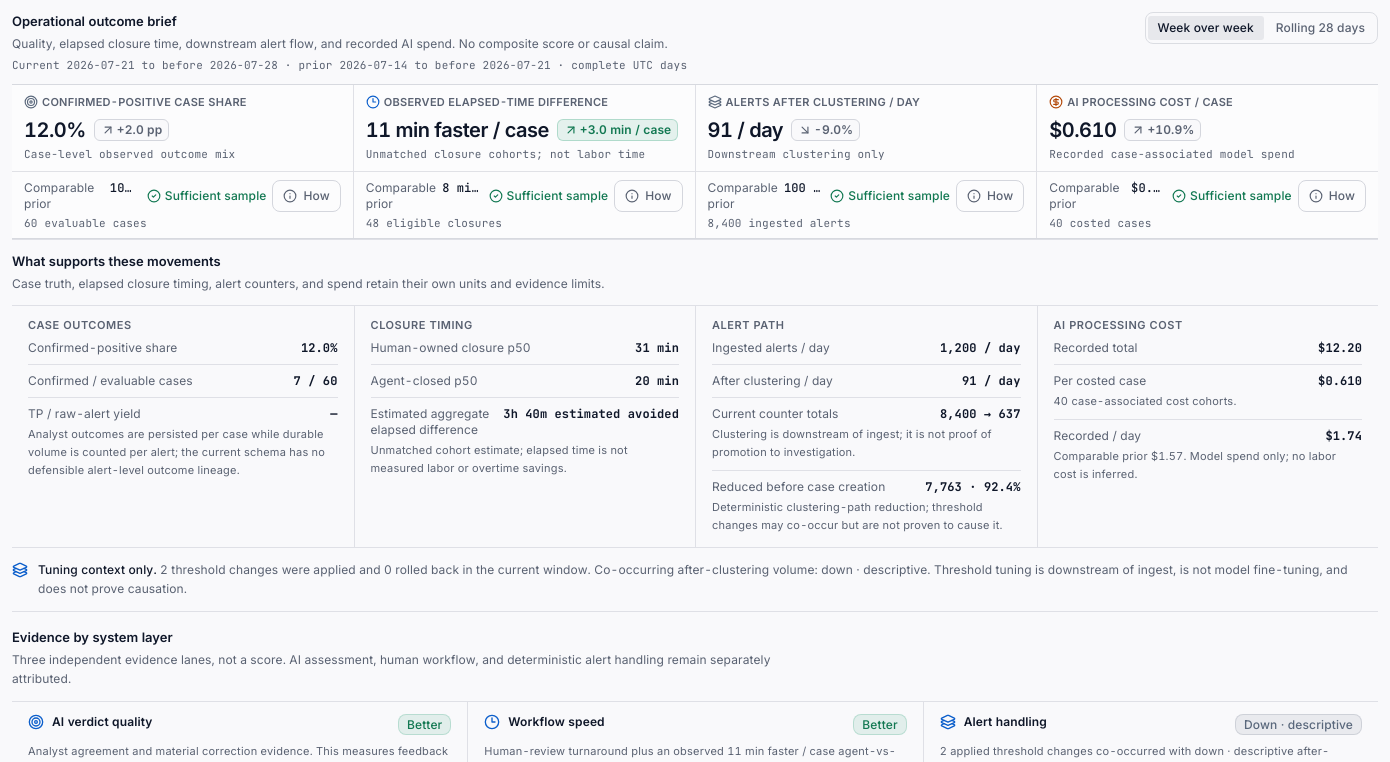
Test: AgentOperationalOutcomes › renders exact backend outcome fields and the true period-comparison contract
expect the heading "Operational outcome brief" is shown: met, box [12, 13, 177, 29]
expect the element named "Outcome trend period" is shown: met, box [1145, 12, 1378, 44]
What coordinates should you click on to do the following:
click the radio button labelled "Rolling 28 days"
I would click on:
 (1320, 28)
Its box is [1266, 16, 1375, 40].
(page scrolled)
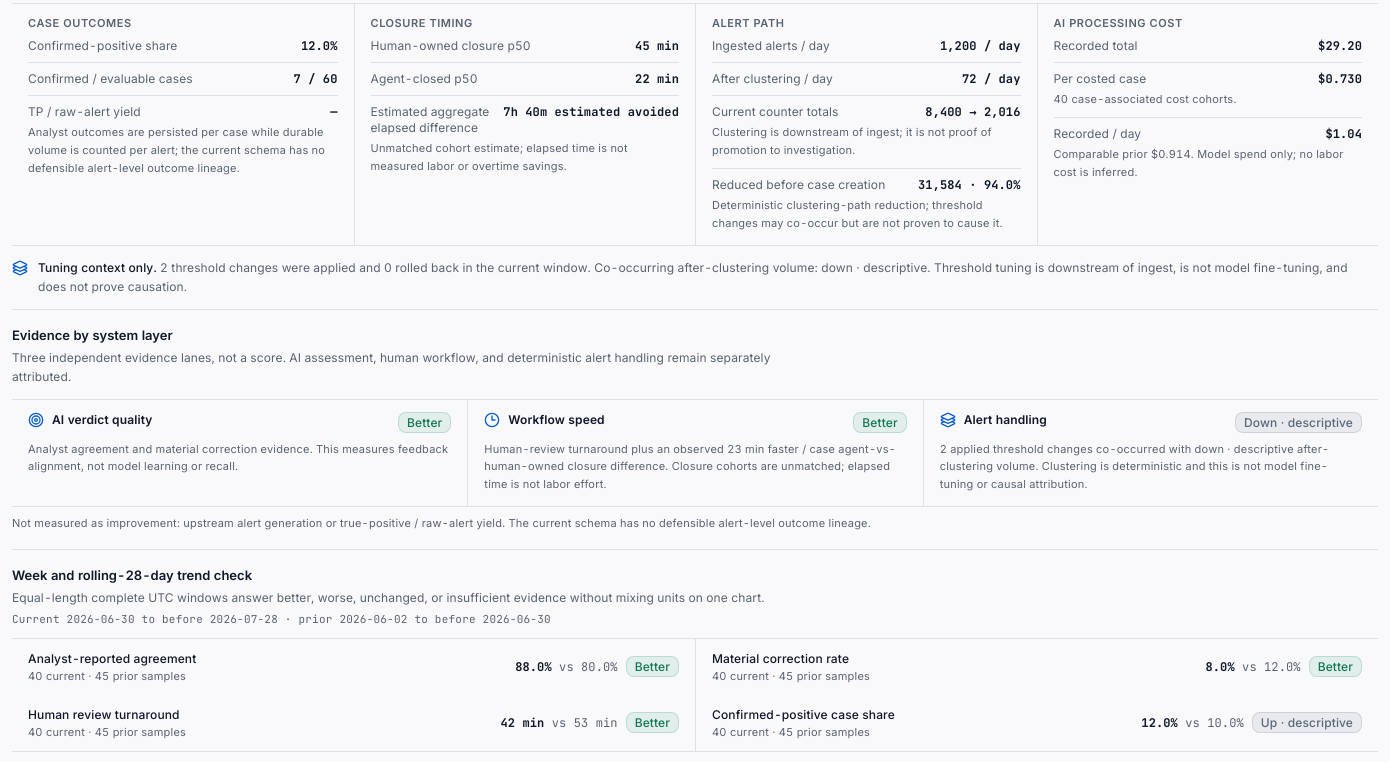
expect the heading "Evidence by system layer" is shown: met, box [12, 326, 173, 342]
expect the element named "Analyst-reported agreement period trend" shows "88.0%": met, box [515, 658, 552, 674]
